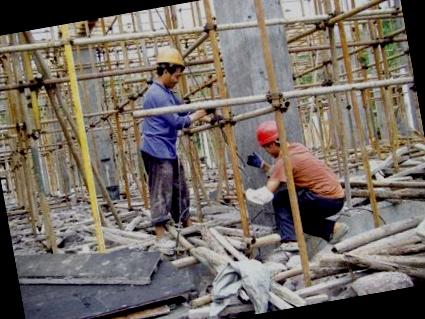helmet: (150, 40, 190, 77), (250, 121, 282, 151)
no_vest: (125, 78, 200, 172), (275, 130, 348, 218)
person: (118, 40, 220, 248), (248, 111, 354, 261)
